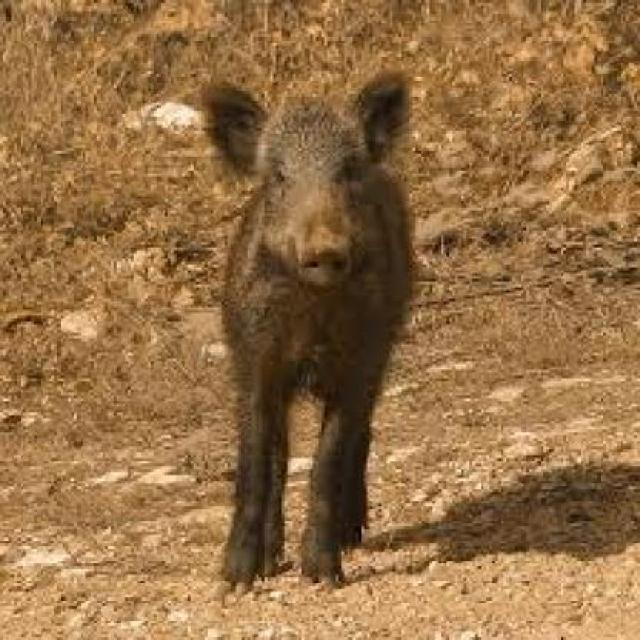wildboar: (186, 70, 431, 608)
